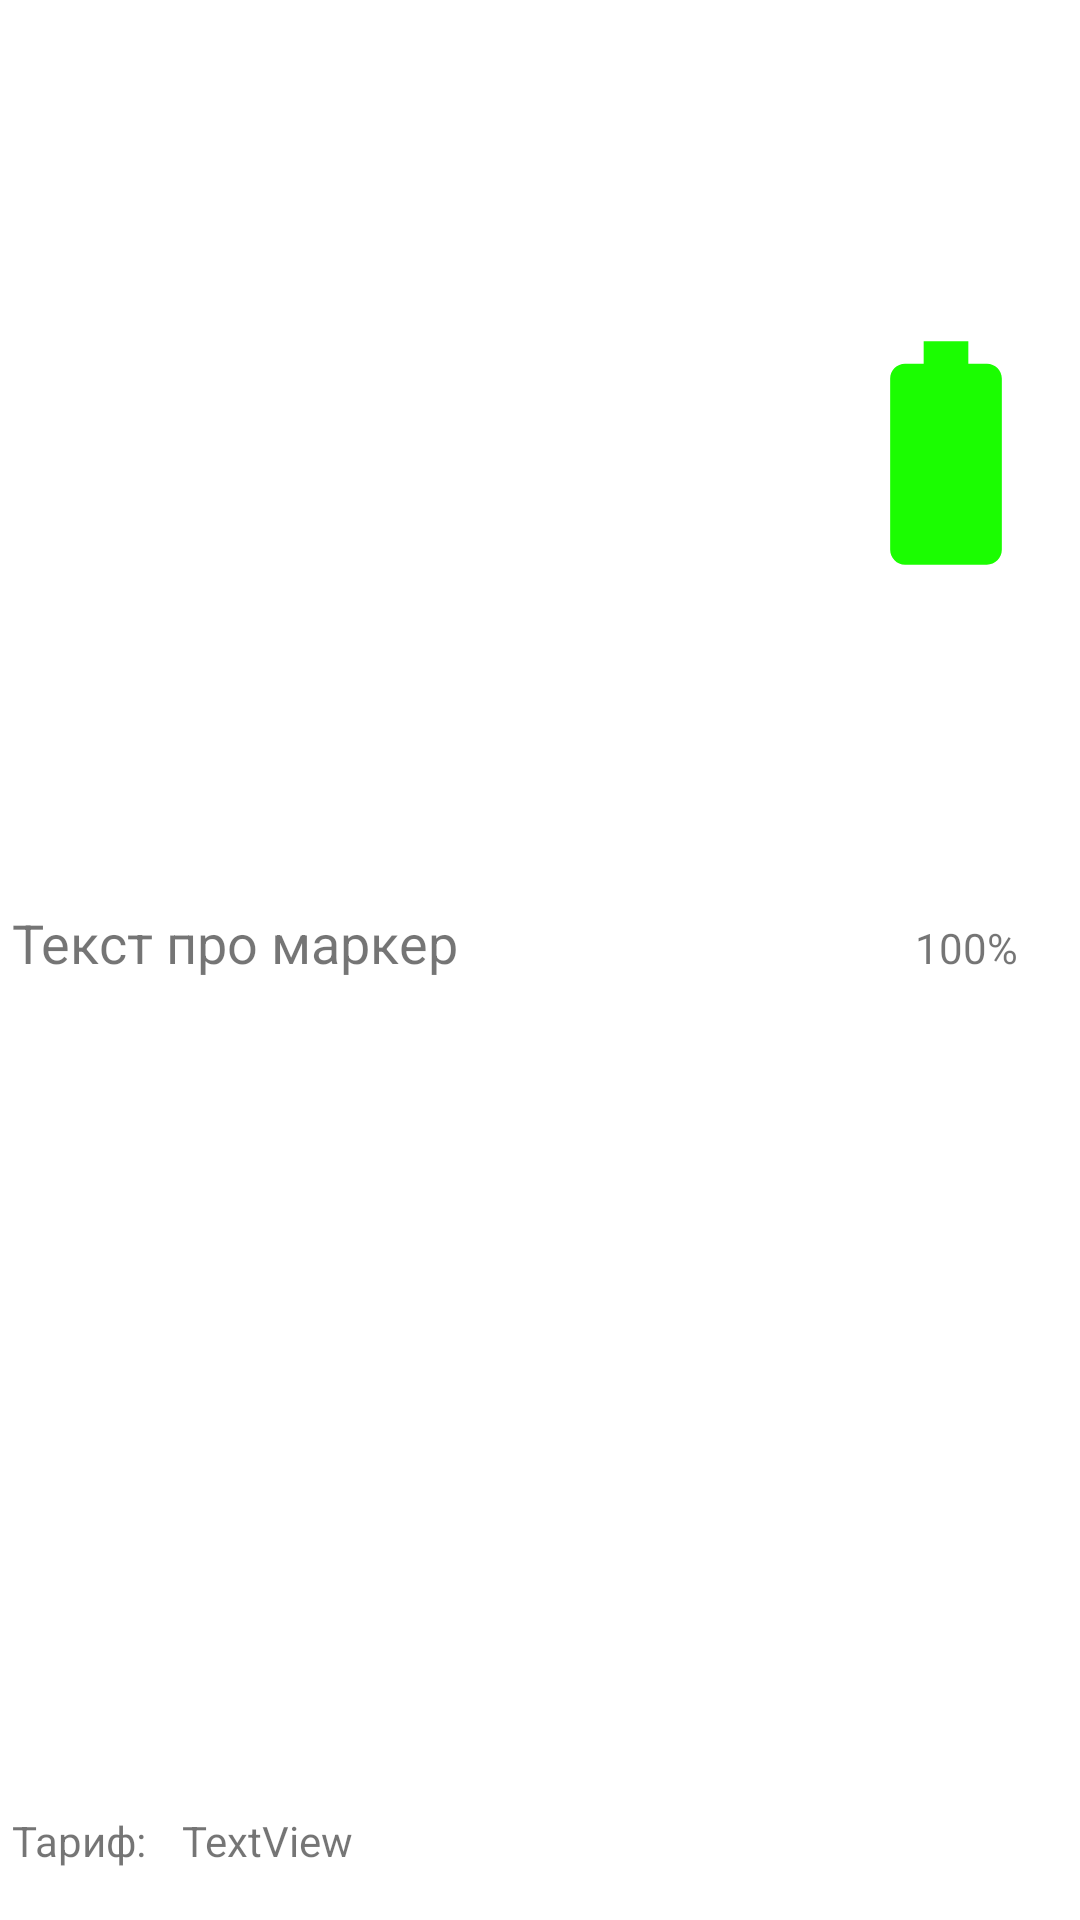

Where to tap for icons on this 1080px×1920px app screen, as point (x, y):
battery full: point (946, 453)
